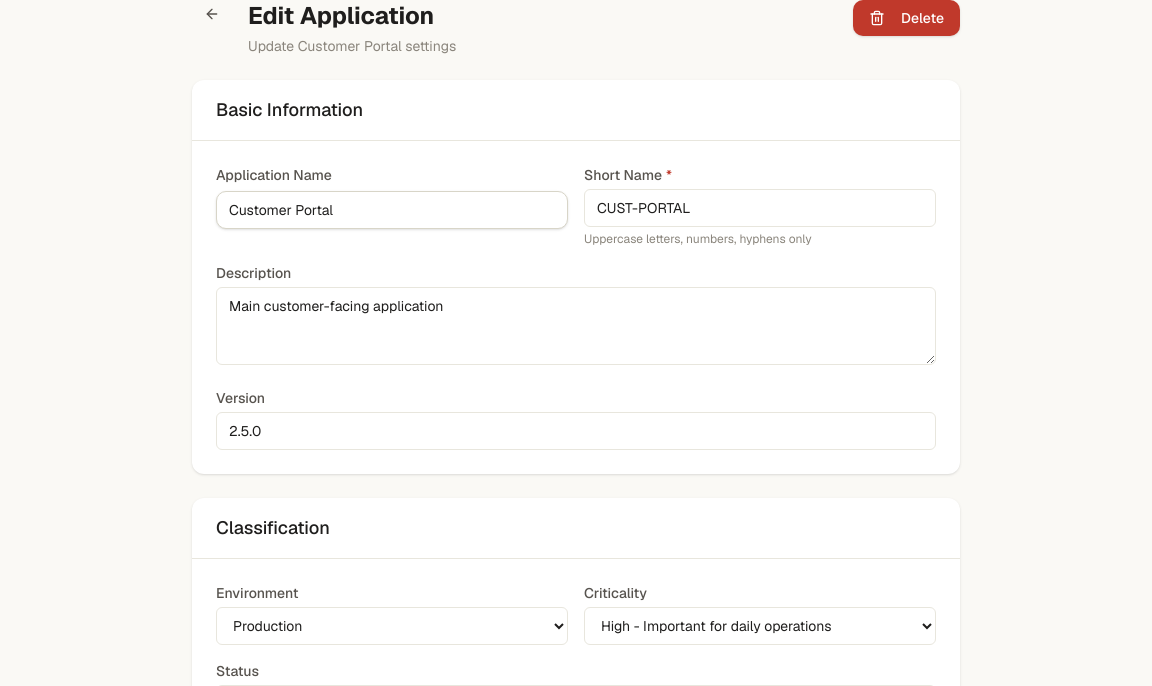
Test: EditApplicationPage › Delete Functionality › opens delete confirmation modal
Click the button "Delete".
click(906, 18)  # box left=853, top=0, right=960, bottom=36
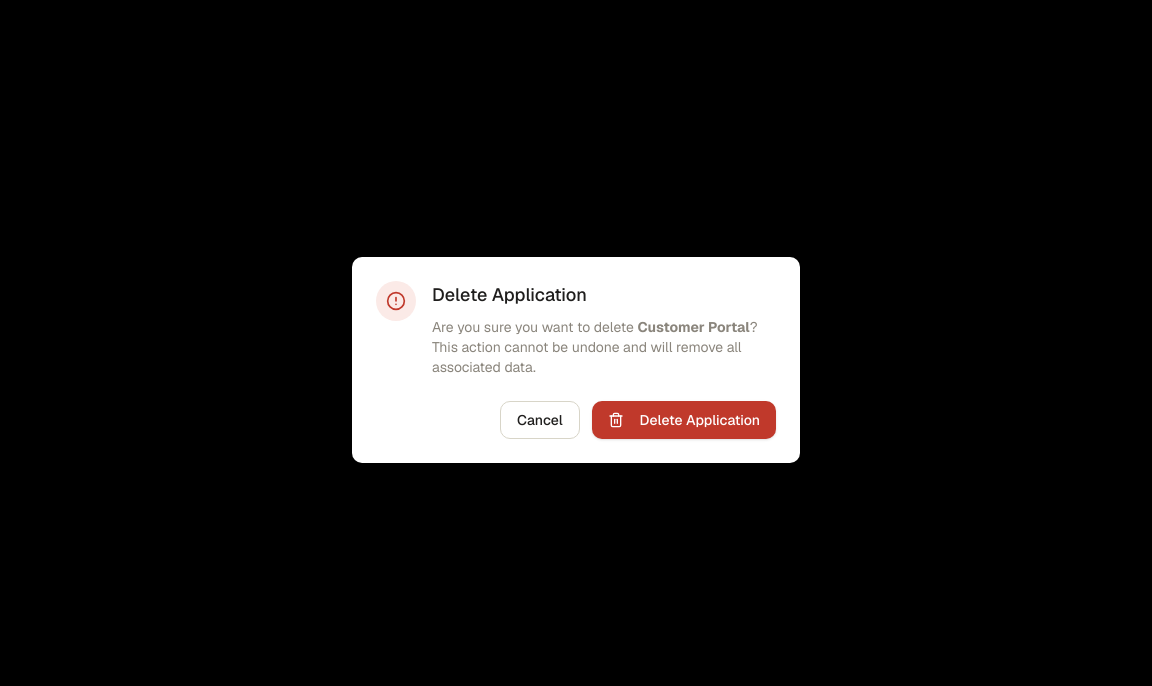
Check: the heading "Delete Application" is shown, box left=432, top=283, right=587, bottom=306
